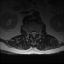CCS_normal: (33, 29, 34, 39)
LFS_stenosis: (37, 30, 38, 35)
LLS_normal: (35, 30, 36, 36)
RFS_stenosis: (29, 30, 31, 35)
RLS_normal: (31, 30, 33, 36)
